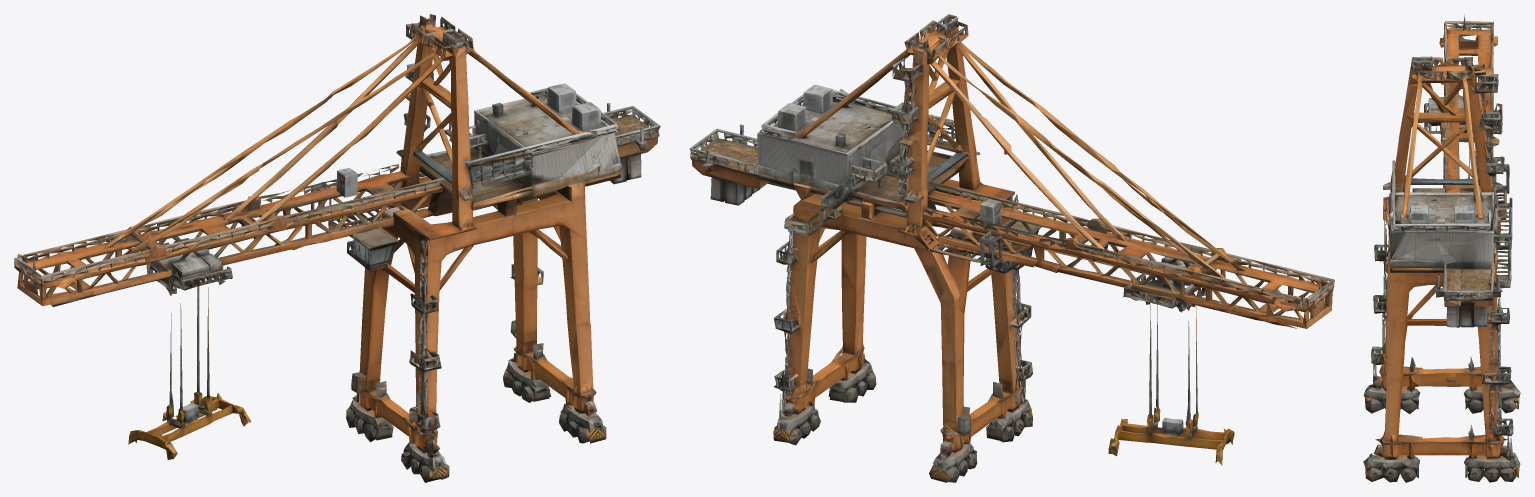
Rendered from container-crane.glb.
The picture shows the model from 3 angles, left to right: view 1: azimuth 30°, elevation 25°; view 2: azimuth 150°, elevation 25°; view 3: azimuth 270°, elevation 25°; orthographic projection. The views are drawn at different scales.
Visible parts, largest first — view 1: container-crane; view 2: container-crane; view 3: container-crane.
Boxes of the visible parts, x1,y1,x2,y2 form: container-crane: [14, 14, 660, 482]; container-crane: [689, 14, 1334, 482]; container-crane: [1363, 14, 1520, 482].
Size of the model in its own units: 65.57 by 42 by 16.13.
Materials: 1 (1 with a texture image).
